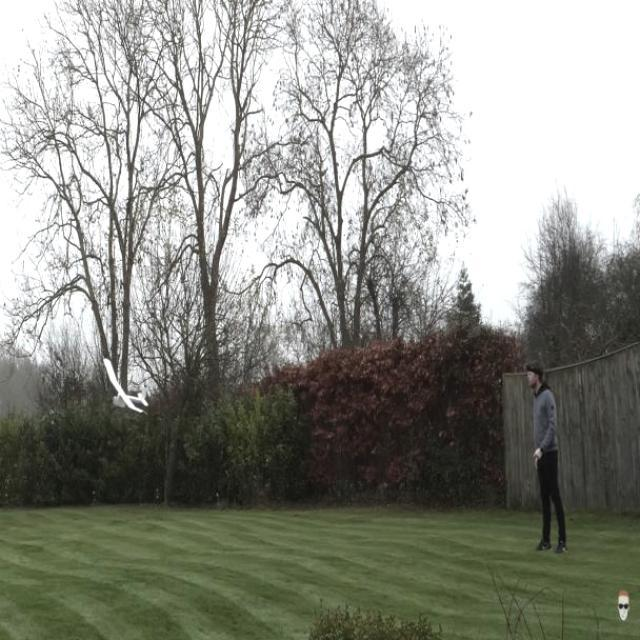iha: (35, 353, 87, 415)
